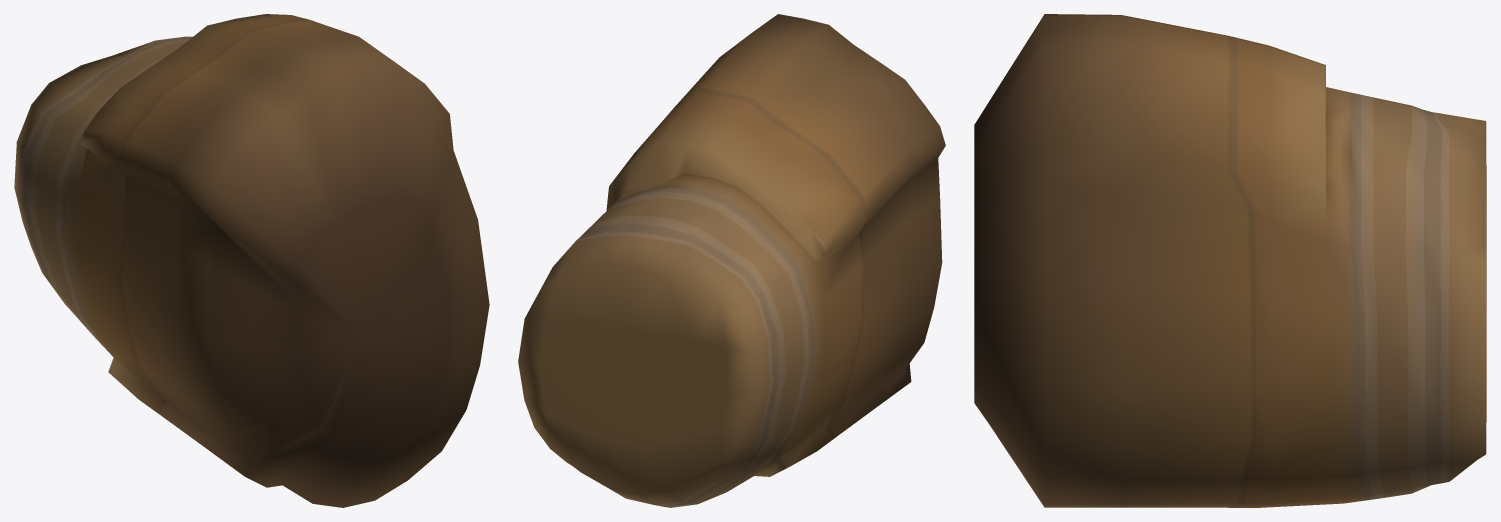
Rendered from SandStoneMesaLarge.001.glb.
3 views of the same model, side by side, from view 1: azimuth 30°, elevation 25°; view 2: azimuth 150°, elevation 25°; view 3: azimuth 270°, elevation 25° (orthographic). The views are drawn at different scales.
Parts seen in each view (by area): view 1: SandStoneMesaLarge.001; view 2: SandStoneMesaLarge.001; view 3: SandStoneMesaLarge.001.
Boxes of the visible parts, x1,y1,x2,y2 form: SandStoneMesaLarge.001: [14, 14, 489, 507]; SandStoneMesaLarge.001: [518, 14, 945, 507]; SandStoneMesaLarge.001: [974, 14, 1486, 507].
Size of the model in its own units: 2651 by 3887 by 3847.
